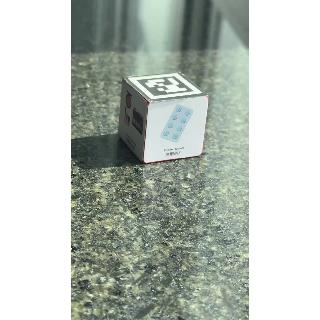Tablet: (151, 98, 206, 167)
